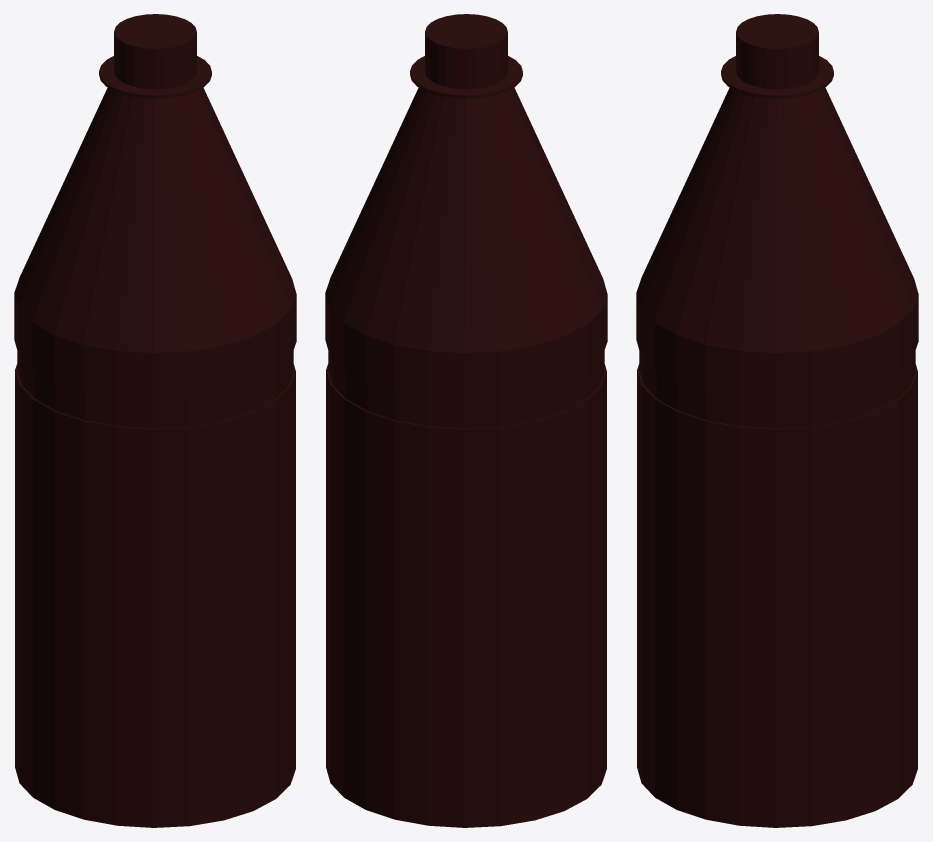
3 views of the same model, side by side, from view 1: azimuth 30°, elevation 25°; view 2: azimuth 150°, elevation 25°; view 3: azimuth 270°, elevation 25° (orthographic).
Parts seen in each view (by area): view 1: mesh1_mesh1-geometry, mesh2_mesh2-geometry; view 2: mesh1_mesh1-geometry, mesh2_mesh2-geometry; view 3: mesh1_mesh1-geometry, mesh2_mesh2-geometry.
Part boxes in pixels (<box>): mesh1_mesh1-geometry: <box>14,87,296,827</box>; mesh2_mesh2-geometry: <box>99,14,211,98</box>; mesh1_mesh1-geometry: <box>325,87,607,827</box>; mesh2_mesh2-geometry: <box>410,14,522,98</box>; mesh1_mesh1-geometry: <box>636,87,918,827</box>; mesh2_mesh2-geometry: <box>721,14,833,98</box>.
Bounding box in the file's own units: 0.3115 × 0.8977 × 0.3115.
